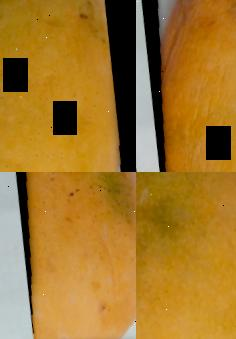PartiallyRipe: (0, 0, 136, 172)
Ripe: (0, 172, 136, 339), (136, 0, 236, 172), (136, 172, 236, 339)
